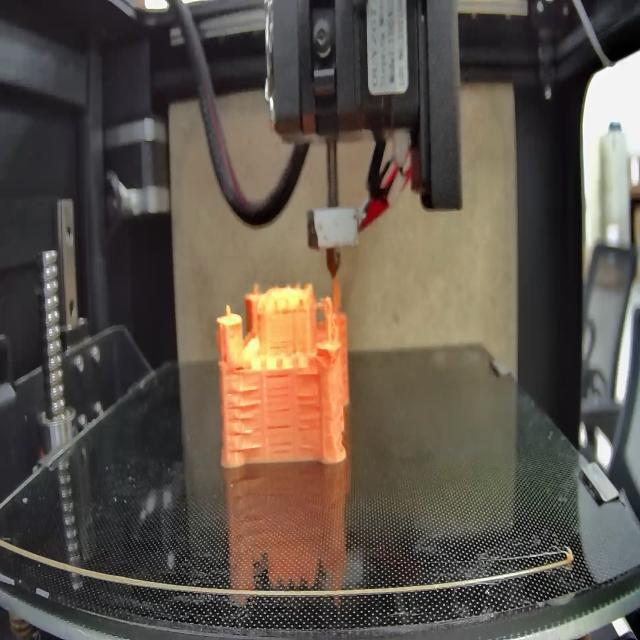cracks: (227, 384, 262, 452), (297, 391, 323, 448), (266, 370, 292, 418), (269, 422, 293, 458), (295, 370, 320, 382), (234, 359, 248, 372)
